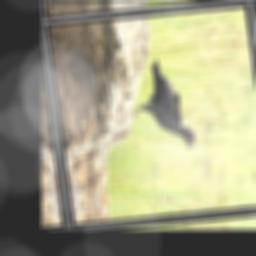Crow: (125, 56, 197, 154)
